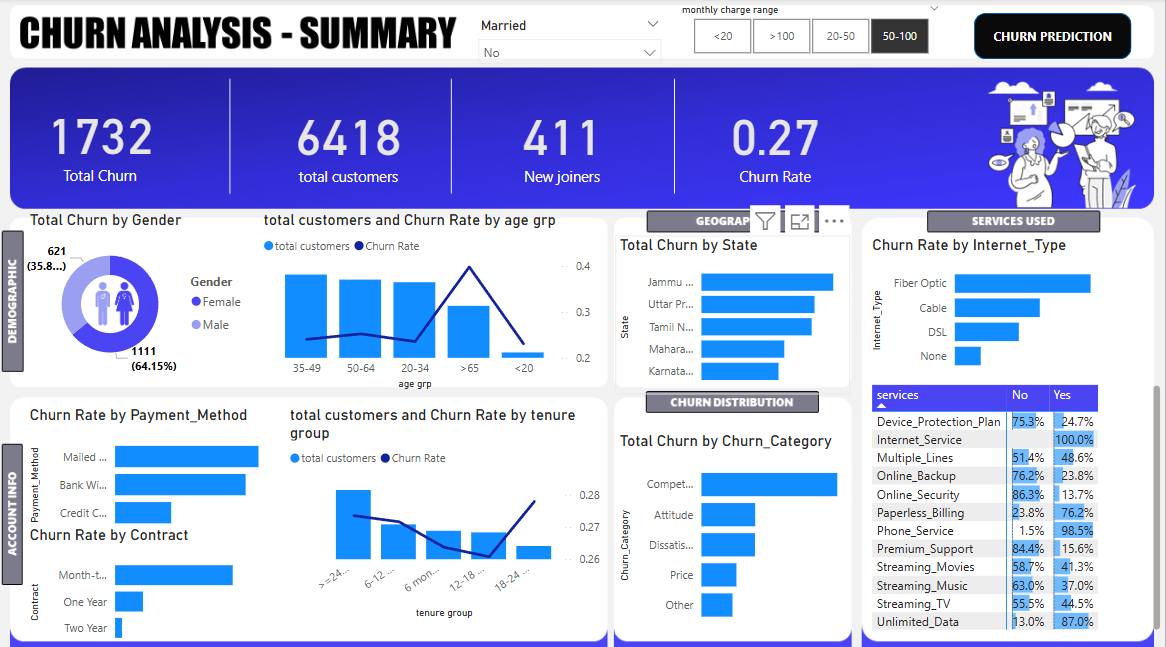

What the dashboard file says about the page in this screenshot:
{"tool":"powerbi","page":{"name":"summary","canvas":[1280,720],"ordinal":0},"visuals":[{"type":"card","fields":{"Values":["Tbl_measures.Total Churn"]},"box":[28.8,96.1,164.7,120.8],"z":0},{"type":"card","fields":{"Values":["Tbl_measures.total customers"]},"box":[299.1,96.1,168.8,122.1],"z":1000},{"type":"card","fields":{"Values":["Tbl_measures.New joiners"]},"box":[528.3,97.4,179.8,120.8],"z":2000},{"type":"card","fields":{"Values":["Tbl_measures.Churn Rate"]},"box":[769.8,97.4,164.7,120.8],"z":3000},{"type":"donutChart","fields":{"Category":["prod_Churn.Gender"],"Y":["Tbl_measures.Total Churn"]},"box":[28.8,233.3,252.5,186.6],"z":4000},{"type":"lineStackedColumnComboChart","fields":{"Category":["mapping_agegrp.age grp"],"Y":["Tbl_measures.total customers"],"Y2":["Tbl_measures.Churn Rate"]},"box":[285.4,233.3,369.1,201.7],"z":5000},{"type":"barChart","fields":{"Category":["prod_Churn.Payment_Method"],"Y":["Tbl_measures.Churn Rate"]},"box":[28.8,447.3,270.3,148.2],"z":6000},{"type":"clusteredBarChart","fields":{"Category":["prod_Churn.Contract"],"Y":["Tbl_measures.Churn Rate"]},"box":[28.8,579.1,270.3,141.3],"z":7000},{"type":"lineStackedColumnComboChart","fields":{"Y":["Tbl_measures.total customers"],"Category":["mapping_tenure.tenure group"],"Y2":["Tbl_measures.Churn Rate"]},"box":[314.2,447.3,351.3,238.8],"z":8000},{"type":"clusteredBarChart","fields":{"Category":["prod_Churn.State"],"Y":["Tbl_measures.Total Churn"]},"box":[676.5,260.7,258,174.3],"z":9000},{"type":"clusteredBarChart","fields":{"Y":["Tbl_measures.Total Churn"],"Category":["prod_Churn.Churn_Category"]},"box":[676.5,476.2,256.6,222.3],"z":10000},{"type":"clusteredBarChart","fields":{"Category":["prod_Churn.Internet_Type"],"Y":["Tbl_measures.Churn Rate"]},"box":[953.7,260.7,318.4,159.2],"z":11000},{"type":"pivotTable","title":"churn by services","fields":{"Rows":["prod_services.services"],"Columns":["prod_services.status"],"Values":["Sum(prod_services.churn status)"]},"box":[953.7,419.9,326.6,278.6],"z":12000},{"type":"image","box":[50.8,299.1,152.3,71.4],"z":12500},{"type":"slicer","fields":{"Values":["prod_services.monthly charge status"]},"box":[736.9,1.4,307.4,65.9],"z":13000},{"type":"slicer","fields":{"Values":["prod_services.Married"]},"box":[516,16.5,220.9,100.2],"z":15000},{"type":"shape","box":[1070.3,16.5,172.9,50.8],"z":15001}]}

Visuals, with their boxes in screenshot pixels (x1, y1, x2, y2), scaled from the page's 1280x720 canvas onto the 1166x647 screenshot:
card - Tbl_measures.Total Churn: select_region(26, 86, 176, 195)
card - Tbl_measures.total customers: select_region(272, 86, 426, 196)
card - Tbl_measures.New joiners: select_region(481, 88, 645, 196)
card - Tbl_measures.Churn Rate: select_region(701, 88, 851, 196)
donutChart - prod_Churn.Gender x Tbl_measures.Total Churn: select_region(26, 210, 256, 377)
lineStackedColumnComboChart - mapping_agegrp.age grp x Tbl_measures.total customers: select_region(260, 210, 596, 391)
barChart - prod_Churn.Payment_Method x Tbl_measures.Churn Rate: select_region(26, 402, 272, 535)
clusteredBarChart - prod_Churn.Contract x Tbl_measures.Churn Rate: select_region(26, 520, 272, 646)
lineStackedColumnComboChart - Tbl_measures.total customers x mapping_tenure.tenure group: select_region(286, 402, 606, 617)
clusteredBarChart - prod_Churn.State x Tbl_measures.Total Churn: select_region(616, 234, 851, 391)
clusteredBarChart - Tbl_measures.Total Churn x prod_Churn.Churn_Category: select_region(616, 428, 850, 628)
clusteredBarChart - prod_Churn.Internet_Type x Tbl_measures.Churn Rate: select_region(869, 234, 1159, 377)
"churn by services" pivotTable: select_region(869, 377, 1165, 628)
image: select_region(46, 269, 185, 333)
slicer - prod_services.monthly charge status: select_region(671, 1, 951, 60)
slicer - prod_services.Married: select_region(470, 15, 671, 105)
shape: select_region(975, 15, 1132, 60)
